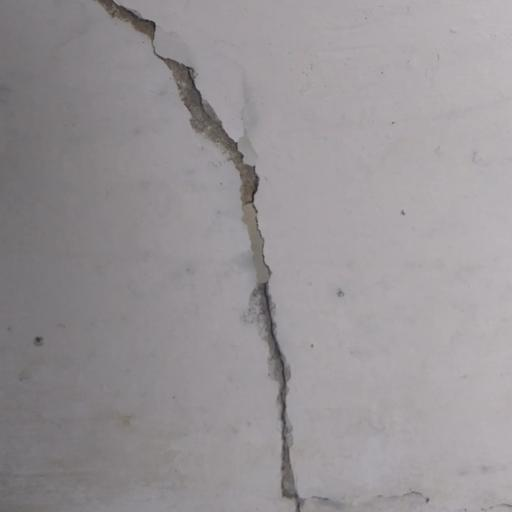major_crack: (91, 0, 316, 512)
